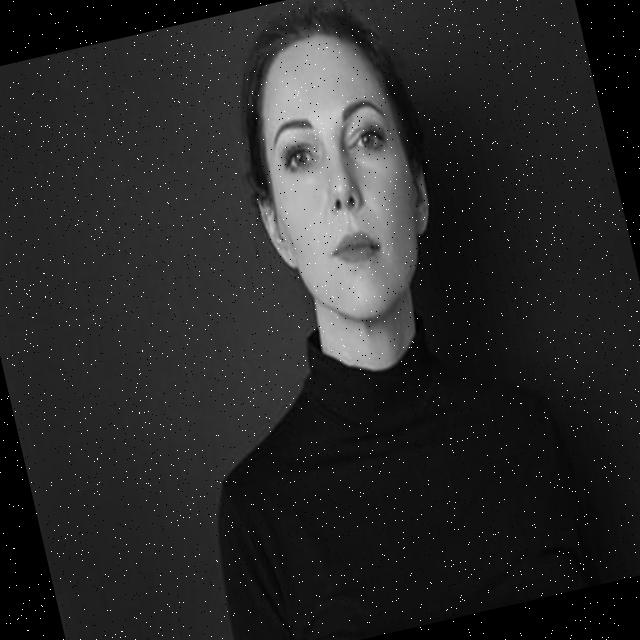Neutral: (242, 25, 439, 331)
